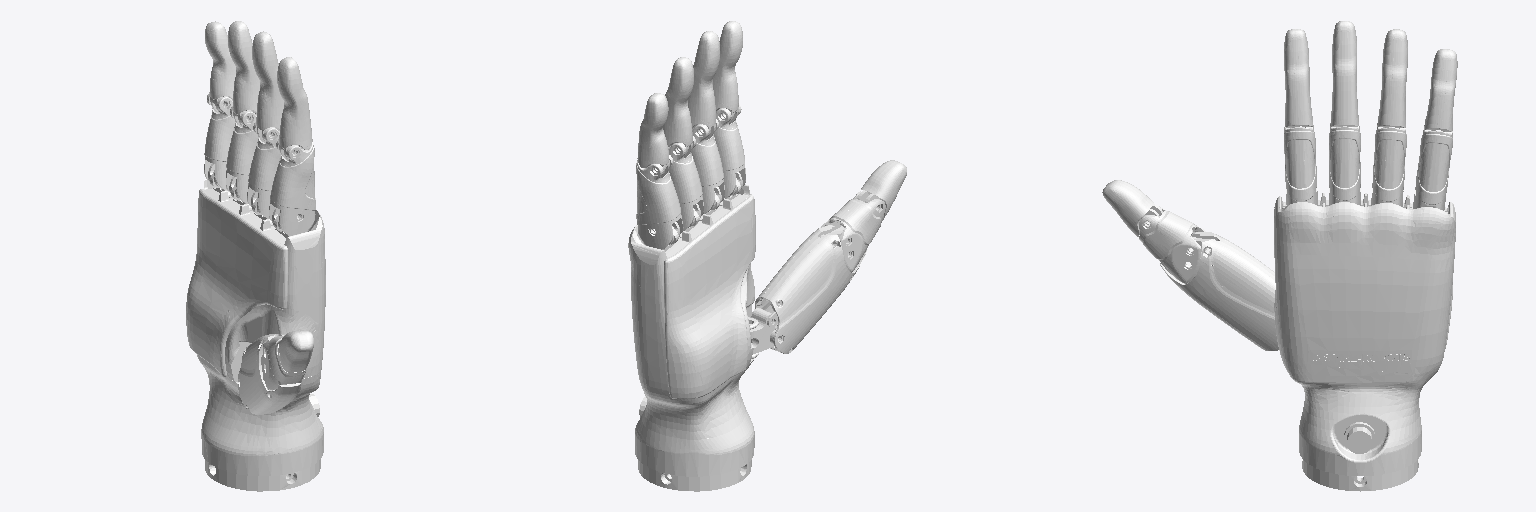
--- What the picture shows (computed from the rendered views, not written in the file) ---
Views: 3 orthographic renders of the robot side by side, from view 1: azimuth 30°, elevation 25°; view 2: azimuth 150°, elevation 25°; view 3: azimuth 270°, elevation 25°.
Robot: handright9253 — 32 links, 31 joints (24 revolute, 6 prismatic, 1 fixed); root link world; default pose: all joints at 0.
Visible links, largest first — view 1: base_link, Link3, Link4, Link44, Link14, Link24, Link13, Link23, Link33, Link34, Link48, Link47; view 2: base_link, Link44, Link33, Link47, Link14, Link24, Link4, Link34, Link23, Link13, Link3, Link48 (+1 smaller); view 3: base_link, Link44, Link47, Link14, Link33, Link24, Link4, Link13, Link23, Link3, Link34, Link48.
Boxes of the visible links, box(x1,y1,x2,y2) form: base_link: box(186, 163, 325, 491); Link3: box(269, 139, 315, 235); Link4: box(277, 57, 312, 160); Link44: box(238, 334, 300, 414); Link14: box(252, 31, 283, 141); Link24: box(228, 21, 259, 126); Link13: box(247, 122, 280, 218); Link23: box(226, 106, 258, 203); Link33: box(204, 92, 235, 190); Link34: box(205, 21, 235, 112); Link48: box(279, 330, 313, 372); Link47: box(261, 335, 307, 389); base_link: box(628, 172, 758, 491); Link44: box(755, 225, 867, 353); Link33: box(636, 155, 683, 249); Link47: box(821, 191, 885, 272); Link14: box(688, 31, 719, 137); Link24: box(663, 57, 693, 156); Link4: box(713, 21, 742, 123); Link34: box(637, 93, 669, 176); Link23: box(668, 136, 703, 230); Link13: box(691, 119, 724, 213); Link3: box(714, 104, 745, 197); Link48: box(857, 160, 906, 217); base_link: box(1274, 193, 1455, 491); Link44: box(1160, 232, 1278, 350); Link47: box(1139, 206, 1205, 283); Link14: box(1331, 21, 1358, 126); Link33: box(1413, 119, 1452, 210); Link24: box(1378, 29, 1407, 127); Link4: box(1284, 29, 1312, 127); Link13: box(1329, 123, 1360, 205); Link23: box(1371, 123, 1406, 206); Link3: box(1284, 125, 1317, 205); Link34: box(1425, 49, 1457, 131); Link48: box(1102, 180, 1162, 236).
Size in the robot's own frame: 0.0757 by 0.1584 by 0.2178 metres.
Meshes: 31 distinct files referenced, 31 mesh visuals loaded (31 binary STL).

The robot description file, URDF, robot "handright9253":
<?xml version="1.0" encoding="utf-8"?>
<!-- This URDF was automatically created by SolidWorks to URDF Exporter! Originally created by Stephen Brawner ([email redacted]) 
     Commit Version: 1.6.0-4-g7f85cfe  Build Version: 1.6.7995.38578
     For more information, please see http://wiki.ros.org/sw_urdf_exporter -->
<robot
  name="handright9253">
  <mujoco>
    <compiler meshdir="../meshes" balanceinertia="true" discardvisual="false"/>
    <actuator>

      <motor name="index"    joint="joint12"  />
      <motor name="middle"   joint="Link12"/>
      <motor name="ring"     joint="Link22"/>
      <motor name="pinky"    joint="Link32"/>
      <motor name="t_rotate" joint="Link42"/>
      <motor name="thumb"    joint="Link46"/>

    </actuator>     
  </mujoco>

    
  <link name="world"/>
  <joint name="fixed" type="fixed">
  <origin
   xyz="0.5 0.5 0.5"
   rpy="-1.5707963 0 0" />
  <parent link="world"/>
  <child link="base_link"/>
  </joint>
  
  
  <link
    name="base_link">
    <inertial>
      <origin
        xyz="-0.0025264 -0.066047 0.0019598"
        rpy="0 0 0" />
      <mass
        value="0.14143" />
      <inertia
        ixx="0.00012281"
        ixy="2.1711E-06"
        ixz="1.7709E-06"
        iyy="8.3831E-05"
        iyz="-1.655E-06"
        izz="7.6663E-05" />
    </inertial>
    <visual>
      <origin
        xyz="0 0 0"
        rpy="0 0 0" />
      <geometry>
        <mesh
          filename="meshes/base_link.STL" />
      </geometry>
      <material
        name="">
        <color
          rgba="1 1 1 1" />
      </material>
    </visual>
    <collision>
      <origin
        xyz="0 0 0"
        rpy="0 0 0" />
      <geometry>
        <mesh
          filename="meshes/base_link.STL" />
      </geometry>
    </collision>
  </link>
  <link
    name="Link1">
    <inertial>
      <origin
        xyz="-0.0017642 -0.028543 -2.2385E-07"
        rpy="0 0 0" />
      <mass
        value="0.0069755" />
      <inertia
        ixx="1.9938E-06"
        ixy="-5.5056E-08"
        ixz="3.3957E-12"
        iyy="1.4791E-07"
        iyz="-3.5244E-11"
        izz="2.0272E-06" />
    </inertial>
    <visual>
      <origin
        xyz="0 0 0"
        rpy="0 0 0" />
      <geometry>
        <mesh
          filename="meshes/Link1.STL" />
      </geometry>
      <material
        name="">
        <color
          rgba="1 1 1 1" />
      </material>
    </visual>
    <collision>
      <origin
        xyz="0 0 0"
        rpy="0 0 0" />
      <geometry>
        <mesh
          filename="meshes/Link1.STL" />
      </geometry>
    </collision>
  </link>
  <joint
    name="joint01"
    type="revolute">
    <origin
      xyz="0.00629 -0.056236 -0.02346"
      rpy="0.034907 0 0" />
    <parent
      link="base_link" />
    <child
      link="Link1" />
    <axis
      xyz="0 0 -1" />
    <limit
      lower="-0.05"
      upper="0.05"
      effort="50"
      velocity="1" />
  </joint>
  <link
    name="Link2">
    <inertial>
      <origin
        xyz="-1.6261E-10 2.3732E-10 -0.011292"
        rpy="0 0 0" />
      <mass
        value="0.00030666" />
      <inertia
        ixx="1.4458E-08"
        ixy="1.5131E-11"
        ixz="-4.0058E-16"
        iyy="1.4474E-08"
        iyz="6.7963E-16"
        izz="6.5358E-10" />
    </inertial>
    <visual>
      <origin
        xyz="0 0 0"
        rpy="0 0 0" />
      <geometry>
        <mesh
          filename="meshes/Link2.STL" />
      </geometry>
      <material
        name="">
        <color
          rgba="1 1 1 1" />
      </material>
    </visual>
    <collision>
      <origin
        xyz="0 0 0"
        rpy="0 0 0" />
      <geometry>
        <mesh
          filename="meshes/Link2.STL" />
      </geometry>
    </collision>
  </link>
  <joint
    name="joint12"
    type="prismatic">
    <origin
      xyz="-0.0010813 -0.050714 0"
      rpy="-1.5708 0.54805 -0.021318" />
    <parent
      link="Link1" />
    <child
      link="Link2" />
    <axis
      xyz="0 0 -1" />
    <limit
      lower="0"
      upper="0.01"
      effort="50"
      velocity="1" />
  </joint>
  <link
    name="Link3">
    <inertial>
      <origin
        xyz="0.0031774 0.017383 0.00090008"
        rpy="0 0 0" />
      <mass
        value="0.0042403" />
      <inertia
        ixx="6.6232E-07"
        ixy="1.5775E-08"
        ixz="1.8782E-12"
        iyy="2.1146E-07"
        iyz="5.067E-12"
        izz="6.9398E-07" />
    </inertial>
    <visual>
      <origin
        xyz="0 0 0"
        rpy="0 0 0" />
      <geometry>
        <mesh
          filename="meshes/Link3.STL" />
      </geometry>
      <material
        name="">
        <color
          rgba="1 1 1 1" />
      </material>
    </visual>
    <collision>
      <origin
        xyz="0 0 0"
        rpy="0 0 0" />
      <geometry>
        <mesh
          filename="meshes/Link3.STL" />
      </geometry>
    </collision>
  </link>
  <joint
    name="joint23"
    type="revolute">
    <origin
      xyz="0.00046892 0.00076819 -0.0244"
      rpy="-1.5708 0.021318 2.5935" />
    <parent
      link="Link2" />
    <child
      link="Link3" />
    <axis
      xyz="0 0 -1" />
    <limit
      lower="0"
      upper="1.7"
      effort="50"
      velocity="1" />
  </joint>
  <link
    name="Link4">
    <inertial>
      <origin
        xyz="-0.0019697 0.019589 0.00305"
        rpy="0 0 0" />
      <mass
        value="0.0045683" />
      <inertia
        ixx="7.6111E-07"
        ixy="-8.7637E-08"
        ixz="-4.2766E-13"
        iyy="9.6076E-08"
        iyz="-1.2085E-12"
        izz="7.8179E-07" />
    </inertial>
    <visual>
      <origin
        xyz="0 0 0"
        rpy="0 0 0" />
      <geometry>
        <mesh
          filename="meshes/Link4.STL" />
      </geometry>
      <material
        name="">
        <color
          rgba="1 1 1 1" />
      </material>
    </visual>
    <collision>
      <origin
        xyz="0 0 0"
        rpy="0 0 0" />
      <geometry>
        <mesh
          filename="meshes/Link4.STL" />
      </geometry>
    </collision>
  </link>
  <joint
    name="joint34"
    type="revolute">
    <origin
      xyz="0.0070171 0.037468 -0.00215"
      rpy="0 0 0" />
    <parent
      link="Link3" />
    <child
      link="Link4" />
    <axis
      xyz="0 0 1" />
    <limit
      lower="-1.7"
      upper="0"
      effort="50"
      velocity="1" />
  </joint>
  
  
  <gazebo>
  <joint
    name="joint03"
    type="revolute">
    <pose relative_to = "base_link">0.00028533 -0.1366 -0.030269 -0.034907 0 3.1416</pose>
    <parent>base_link</parent>
    <child>Link3</child>
    <axis>0 0 1</axis>
    <limit
      lower="-2"
      upper="0"
      effort="50"
      velocity="1" />
  </joint>
  </gazebo>
  
  
  <link
    name="Link5">
    <inertial>
      <origin
        xyz="-0.0038588 0.015743 0.004"
        rpy="0 0 0" />
      <mass
        value="0.00031561" />
      <inertia
        ixx="4.8752E-08"
        ixy="1.1798E-08"
        ixz="2.6832E-23"
        iyy="3.6866E-09"
        iyz="-1.1225E-22"
        izz="5.1996E-08" />
    </inertial>
    <visual>
      <origin
        xyz="0 0 0"
        rpy="0 0 0" />
      <geometry>
        <mesh
          filename="meshes/Link5.STL" />
      </geometry>
      <material
        name="">
        <color
          rgba="1 1 1 1" />
      </material>
    </visual>
    <collision>
      <origin
        xyz="0 0 0"
        rpy="0 0 0" />
      <geometry>
        <mesh
          filename="meshes/Link5.STL" />
      </geometry>
    </collision>
  </link>
  <joint
    name="joint05"
    type="revolute">
    <origin
      xyz="-0.00546 -0.13178 -0.030101"
      rpy="-0.034907 0 3.1416" />
    <parent
      link="base_link" />
    <child
      link="Link5" />
    <axis
      xyz="0 0 1" />
    <limit
      lower="-2"
      upper="0"
      effort="50"
      velocity="1" />
  </joint>
  
  
  <gazebo>
  <joint
    name="joint54"
    type="revolute">
    <pose relative_to = "Link5">-0.0078202 0.031648 0.00095 0 0 0</pose>
    <parent>Link5</parent>
    <child>Link4</child>
    <axis>0 0 1</axis>
    <limit
      lower="-2"
      upper="2"
      effort="50"
      velocity="1" />
  </joint>
  </gazebo>
  
  
  <link
    name="Link11">
    <inertial>
      <origin
        xyz="-0.0017767 -0.028542 -2.303E-07"
        rpy="0 0 0" />
      <mass
        value="0.0069755" />
      <inertia
        ixx="1.9937E-06"
        ixy="-5.5869E-08"
        ixz="3.0637E-12"
        iyy="1.4796E-07"
        iyz="-3.5748E-11"
        izz="2.0272E-06" />
    </inertial>
    <visual>
      <origin
        xyz="0 0 0"
        rpy="0 0 0" />
      <geometry>
        <mesh
          filename="meshes/Link11.STL" />
      </geometry>
      <material
        name="">
        <color
          rgba="1 1 1 1" />
      </material>
    </visual>
    <collision>
      <origin
        xyz="0 0 0"
        rpy="0 0 0" />
      <geometry>
        <mesh
          filename="meshes/Link11.STL" />
      </geometry>
    </collision>
  </link>
  <joint
    name="joint011"
    type="revolute">
    <origin
      xyz="0.00629 -0.05655 -0.00695"
      rpy="0 0 0" />
    <parent
      link="base_link" />
    <child
      link="Link11" />
    <axis
      xyz="0 0 -1" />
    <limit
      lower="-0.05"
      upper="0.05"
      effort="50"
      velocity="1" />
  </joint>
  <link
    name="Link12">
    <inertial>
      <origin
        xyz="-0.018674 6.5223E-06 -0.010992"
        rpy="0 0 0" />
      <mass
        value="0.00030666" />
      <inertia
        ixx="1.4466E-08"
        ixy="-1.8286E-14"
        ixz="-4.8224E-10"
        iyy="1.4449E-08"
        iyz="1.8406E-13"
        izz="6.7042E-10" />
    </inertial>
    <visual>
      <origin
        xyz="0 0 0"
        rpy="0 0 0" />
      <geometry>
        <mesh
          filename="meshes/Link12.STL" />
      </geometry>
      <material
        name="">
        <color
          rgba="1 1 1 1" />
      </material>
    </visual>
    <collision>
      <origin
        xyz="0 0 0"
        rpy="0 0 0" />
      <geometry>
        <mesh
          filename="meshes/Link12.STL" />
      </geometry>
    </collision>
  </link>
  <joint
    name="joint1112"
    type="prismatic">
    <origin
      xyz="-0.0011031 -0.050343 -0.018279"
      rpy="0.021758 1.5359 1.5708" />
    <parent
      link="Link11" />
    <child
      link="Link12" />
    <axis
      xyz="0 0 -1" />
    <limit
      lower="0"
      upper="0.01"
      effort="50"
      velocity="1" />
  </joint>
  <link
    name="Link13">
    <inertial>
      <origin
        xyz="0.0030737 0.017402 0.00090013"
        rpy="0 0 0" />
      <mass
        value="0.0042403" />
      <inertia
        ixx="6.6211E-07"
        ixy="1.8461E-08"
        ixz="1.798E-12"
        iyy="2.1167E-07"
        iyz="6.6568E-12"
        izz="6.9397E-07" />
    </inertial>
    <visual>
      <origin
        xyz="0 0 0"
        rpy="0 0 0" />
      <geometry>
        <mesh
          filename="meshes/Link13.STL" />
      </geometry>
      <material
        name="">
        <color
          rgba="1 1 1 1" />
      </material>
    </visual>
    <collision>
      <origin
        xyz="0 0 0"
        rpy="0 0 0" />
      <geometry>
        <mesh
          filename="meshes/Link13.STL" />
      </geometry>
    </collision>
  </link>
  <joint
    name="joint1213"
    type="revolute">
    <origin
      xyz="-0.018232 0 -0.024124"
      rpy="-1.5359 0.021758 1.5708" />
    <parent
      link="Link12" />
    <child
      link="Link13" />
    <axis
      xyz="0 0 -1" />
    <limit
      lower="0"
      upper="1.7"
      effort="50"
      velocity="1" />
  </joint>
  <link
    name="Link14">
    <inertial>
      <origin
        xyz="-0.001921 0.020796 0.00305"
        rpy="0 0 0" />
      <mass
        value="0.0050396" />
      <inertia
        ixx="9.5822E-07"
        ixy="-1.1425E-07"
        ixz="-2.4866E-12"
        iyy="1.0646E-07"
        iyz="-5.9101E-12"
        izz="9.8384E-07" />
    </inertial>
    <visual>
      <origin
        xyz="0 0 0"
        rpy="0 0 0" />
      <geometry>
        <mesh
          filename="meshes/Link14.STL" />
      </geometry>
      <material
        name="">
        <color
          rgba="1 1 1 1" />
      </material>
    </visual>
    <collision>
      <origin
        xyz="0 0 0"
        rpy="0 0 0" />
      <geometry>
        <mesh
          filename="meshes/Link14.STL" />
      </geometry>
    </collision>
  </link>
  <joint
    name="joint1314"
    type="revolute">
    <origin
      xyz="0.0067937 0.037509 -0.00215"
      rpy="0 0 0" />
    <parent
      link="Link13" />
    <child
      link="Link14" />
    <axis
      xyz="0 0 -1" />
    <limit
      lower="0"
      upper="1.7"
      effort="50"
      velocity="1" />
  </joint>
  
  
  <gazebo>
  <joint
    name="joint013"
    type="revolute">
    <pose relative_to = "base_link">0.00028533 -0.1371 -0.01095 0 0 3.1416</pose>
    <parent>base_link</parent>
    <child>Link13</child>
    <axis>0 0 1</axis>
    <limit
      lower="-2"
      upper="2"
      effort="50"
      velocity="1" />
  </joint>
  </gazebo>
  
  
  <link
    name="Link15">
    <inertial>
      <origin
        xyz="-0.0039265 0.015726 0.004"
        rpy="0 0 0" />
      <mass
        value="0.00031561" />
      <inertia
        ixx="4.8649E-08"
        ixy="1.1992E-08"
        ixz="-3.8313E-23"
        iyy="3.789E-09"
        iyz="1.508E-22"
        izz="5.1996E-08" />
    </inertial>
    <visual>
      <origin
        xyz="0 0 0"
        rpy="0 0 0" />
      <geometry>
        <mesh
          filename="meshes/Link15.STL" />
      </geometry>
      <material
        name="">
        <color
          rgba="1 1 1 1" />
      </material>
    </visual>
    <collision>
      <origin
        xyz="0 0 0"
        rpy="0 0 0" />
      <geometry>
        <mesh
          filename="meshes/Link15.STL" />
      </geometry>
    </collision>
  </link>
  <joint
    name="joint015"
    type="revolute">
    <origin
      xyz="-0.00546 -0.13228 -0.01095"
      rpy="0 0 3.1416" />
    <parent
      link="base_link" />
    <child
      link="Link15" />
    <axis
      xyz="0 0 1" />
    <limit
      lower="-2"
      upper="0"
      effort="50"
      velocity="1" />
  </joint>
  
  
  <gazebo>
  <joint
    name="joint1514"
    type="revolute">
    <pose relative_to = "Link15">-0.0079562 0.031614 0.00095 0 0 0</pose>
    <parent>Link15</parent>
    <child>Link14</child>
    <axis>0 0 -1</axis>
    <limit
      lower="-2"
      upper="2"
      effort="50"
      velocity="1" />
  </joint>
  </gazebo>
  
  
  <link
    name="Link21">
    <inertial>
      <origin
        xyz="-0.0017767 -0.028542 -2.2887E-07"
        rpy="0 0 0" />
      <mass
        value="0.0069755" />
      <inertia
        ixx="1.9937E-06"
        ixy="-5.5869E-08"
        ixz="3.0573E-12"
        iyy="1.4796E-07"
        iyz="-3.5751E-11"
        izz="2.0272E-06" />
    </inertial>
    <visual>
      <origin
        xyz="0 0 0"
        rpy="0 0 0" />
      <geometry>
        <mesh
          filename="meshes/Link21.STL" />
      </geometry>
      <material
        name="">
        <color
          rgba="1 1 1 1" />
      </material>
    </visual>
    <collision>
      <origin
        xyz="0 0 0"
        rpy="0 0 0" />
      <geometry>
        <mesh
          filename="meshes/Link21.STL" />
      </geometry>
    </collision>
  </link>
  <joint
    name="joint021"
    type="revolute">
    <origin
      xyz="0.00629 -0.056157 0.0080633"
      rpy="-0.05236 0 0" />
    <parent
      link="base_link" />
    <child
      link="Link21" />
    <axis
      xyz="0 0 1" />
    <limit
      lower="-0.05"
      upper="0.05"
      effort="50"
      velocity="1" />
  </joint>
  <link
    name="Link22">
    <inertial>
      <origin
        xyz="7.7552E-11 1.8671E-10 -0.011292"
        rpy="0 0 0" />
      <mass
        value="0.00030666" />
      <inertia
        ixx="1.4483E-08"
        ixy="-3.7658E-14"
        ixz="1.8278E-16"
        iyy="1.4449E-08"
        iyz="5.518E-16"
        izz="6.5358E-10" />
    </inertial>
    <visual>
      <origin
        xyz="0 0 0"
        rpy="0 0 0" />
      <geometry>
        <mesh
          filename="meshes/Link22.STL" />
      </geometry>
      <material
        name="">
        <color
          rgba="1 1 1 1" />
      </material>
    </visual>
    <collision>
      <origin
        xyz="0 0 0"
        rpy="0 0 0" />
      <geometry>
        <mesh
          filename="meshes/Link22.STL" />
      </geometry>
    </collision>
  </link>
  <joint
    name="joint2122"
    type="prismatic">
    <origin
      xyz="-0.0011031 -0.050688 0"
      rpy="1.5708 1.5697 3.1198" />
    <parent
      link="Link21" />
    <child
      link="Link22" />
    <axis
      xyz="0 0 -1" />
    <limit
      lower="0"
      upper="0.01"
      effort="50"
      velocity="1" />
  </joint>
  <link
    name="Link23">
    <inertial>
      <origin
        xyz="0.0030737 0.017402 0.00090015"
        rpy="0 0 0" />
      <mass
        value="0.0042403" />
      <inertia
        ixx="6.6211E-07"
        ixy="1.8461E-08"
        ixz="1.5739E-12"
        iyy="2.1167E-07"
        iyz="6.6326E-12"
        izz="6.9397E-07" />
    </inertial>
    <visual>
      <origin
        xyz="0 0 0"
        rpy="0 0 0" />
      <geometry>
        <mesh
          filename="meshes/Link23.STL" />
      </geometry>
      <material
        name="">
        <color
          rgba="1 1 1 1" />
      </material>
    </visual>
    <collision>
      <origin
        xyz="0 0 0"
        rpy="0 0 0" />
      <geometry>
        <mesh
          filename="meshes/Link23.STL" />
      </geometry>
    </collision>
  </link>
  <joint
    name="joint2223"
    type="revolute">
    <origin
      xyz="0.0009 0 -0.0244"
      rpy="-1.5708 0.021758 1.5697" />
    <parent
      link="Link22" />
    <child
      link="Link23" />
    <axis
      xyz="0 0 -1" />
    <limit
      lower="0"
      upper="1.7"
      effort="50"
      velocity="1" />
  </joint>
  <link
    name="Link24">
    <inertial>
      <origin
        xyz="-0.0021753 0.019567 0.00305"
        rpy="0 0 0" />
      <mass
        value="0.0045683" />
      <inertia
        ixx="7.6286E-07"
        ixy="-8.0635E-08"
        ixz="-6.1735E-13"
        iyy="9.431E-08"
        iyz="-5.5495E-13"
        izz="7.8177E-07" />
    </inertial>
    <visual>
      <origin
        xyz="0 0 0"
        rpy="0 0 0" />
      <geometry>
        <mesh
          filename="meshes/Link24.STL" />
      </geometry>
      <material
        name="">
        <color
          rgba="1 1 1 1" />
      </material>
    </visual>
    <collision>
      <origin
        xyz="0 0 0"
        rpy="0 0 0" />
      <geometry>
        <mesh
          filename="meshes/Link24.STL" />
      </geometry>
    </collision>
  </link>
  <joint
    name="joint2324"
    type="revolute">
    <origin
      xyz="0.0067937 0.037509 -0.00215"
      rpy="0 0 0" />
    <parent
      link="Link23" />
    <child
      link="Link24" />
    <axis
      xyz="0 0 1" />
    <limit
      lower="-1.7"
      upper="0"
      effort="50"
      velocity="1" />
  </joint>
  
  
  <gazebo>
  <joint
    name="joint023"
    type="revolute">
    <pose relative_to = "base_link">0.00028533 -0.13681 0.0082844 0.05236 0 -3.1416</pose>
    <parent>base_link</parent>
    <child>Link23</child>
    <axis>0 0 1</axis>
    <limit
      lower="-2"
      upper="0"
      effort="50"
      velocity="1" />
  </joint>
  </gazebo>
  
  
  <link
    name="Link25">
    <inertial>
      <origin
        xyz="-0.0039265 0.015726 0.004"
        rpy="0 0 0" />
      <mass
        value="0.00031561" />
      <inertia
        ixx="4.8649E-08"
        ixy="1.1992E-08"
        ixz="-1.2563E-23"
        iyy="3.789E-09"
        iyz="5.4142E-23"
        izz="5.1996E-08" />
    </inertial>
    <visual>
      <origin
        xyz="0 0 0"
        rpy="0 0 0" />
      <geometry>
        <mesh
          filename="meshes/Link25.STL" />
      </geometry>
      <material
        name="">
        <color
          rgba="1 1 1 1" />
      </material>
    </visual>
    <collision>
      <origin
        xyz="0 0 0"
        rpy="0 0 0" />
      <geometry>
        <mesh
          filename="meshes/Link25.STL" />
      </geometry>
    </collision>
  </link>
  <joint
    name="joint025"
    type="revolute">
    <origin
      xyz="-0.00546 -0.13199 0.0080321"
      rpy="0.05236 0 -3.1416" />
    <parent
      link="base_link" />
    <child
      link="Link25" />
    <axis
      xyz="0 0 1" />
    <limit
      lower="-2"
      upper="0"
      effort="50"
      velocity="1" />
  </joint>
  
  
  <gazebo>
  <joint
    name="joint2524"
    type="revolute">
    <pose relative_to = "Link25">-0.0079562 0.031614 0.00095 0 0 0</pose>
    <parent>Link25</parent>
    <child>Link24</child>
    <axis>0 0 1</axis>
    <limit
      lower="-2"
      upper="2"
      effort="50"
      velocity="1" />
  </joint>
  </gazebo>
  
  
  <link
    name="Link31">
    <inertial>
      <origin
        xyz="-0.0017767 -0.028542 -2.2872E-07"
        rpy="0 0 0" />
      <mass
        value="0.0069755" />
      <inertia
        ixx="1.9937E-06"
        ixy="-5.5869E-08"
        ixz="3.0495E-12"
        iyy="1.4796E-07"
        iyz="-3.5733E-11"
        izz="2.0272E-06" />
    </inertial>
    <visual>
      <origin
        xyz="0 0 0"
        rpy="0 0 0" />
      <geometry>
        <mesh
          filename="meshes/Link31.STL" />
      </geometry>
      <material
        name="">
        <color
          rgba="1 1 1 1" />
      </material>
    </visual>
    <collision>
      <origin
        xyz="0 0 0"
        rpy="0 0 0" />
      <geometry>
        <mesh
          filename="meshes/Link31.STL" />
      </geometry>
    </collision>
  </link>
  <joint
    name="joint031"
    type="revolute">
    <origin
      xyz="0.00629 -0.054979 0.023035"
      rpy="-0.10472 0 0" />
    <parent
      link="base_link" />
    <child
      link="Link31" />
    <axis
      xyz="0 0 1" />
    <limit
      lower="-0.05"
      upper="0.05"
      effort="50"
      velocity="1" />
  </joint>
  <link
    name="Link32">
    <inertial>
      <origin
        xyz="2.6333E-10 5.3616E-10 -0.011292"
        rpy="0 0 0" />
      <mass
        value="0.00030666" />
      <inertia
        ixx="1.4483E-08"
        ixy="-7.6671E-14"
        ixz="1.0318E-15"
        iyy="1.4449E-08"
        iyz="1.234E-15"
        izz="6.5358E-10" />
    </inertial>
    <visual>
      <origin
        xyz="0 0 0"
        rpy="0 0 0" />
      <geometry>
        <mesh
          filename="meshes/Link32.STL" />
      </geometry>
      <material
        name="">
        <color
          rgba="1 1 1 1" />
      </material>
    </visual>
    <collision>
      <origin
        xyz="0 0 0"
        rpy="0 0 0" />
      <geometry>
        <mesh
          filename="meshes/Link32.STL" />
      </geometry>
    </collision>
  </link>
  <joint
    name="joint3132"
    type="prismatic">
    <origin
      xyz="-0.0011031 -0.050688 0"
      rpy="1.5708 1.5685 3.1198" />
    <parent
      link="Link31" />
    <child
      link="Link32" />
    <axis
      xyz="0 0 -1" />
    <limit
      lower="0"
      upper="0.01"
      effort="50"
      velocity="1" />
  </joint>
  <link
    name="Link33">
    <inertial>
      <origin
        xyz="0.0030737 0.017402 0.00090014"
        rpy="0 0 0" />
      <mass
        value="0.0042403" />
      <inertia
        ixx="6.6211E-07"
        ixy="1.8461E-08"
        ixz="1.6126E-12"
        iyy="2.1167E-07"
        iyz="6.6785E-12"
        izz="6.9398E-07" />
    </inertial>
    <visual>
      <origin
        xyz="0 0 0"
        rpy="0 0 0" />
      <geometry>
        <mesh
          filename="meshes/Link33.STL" />
      </geometry>
      <material
        name="">
        <color
          rgba="1 1 1 1" />
      </material>
    </visual>
    <collision>
      <origin
        xyz="0 0 0"
        rpy="0 0 0" />
      <geometry>
        <mesh
          filename="meshes/Link33.STL" />
      </geometry>
    </collision>
  </link>
  <joint
    name="joint3233"
    type="revolute">
    <origin
      xyz="0.0009 0 -0.0244"
      rpy="-1.5708 0.021758 1.5685" />
    <parent
      link="Link32" />
    <child
      link="Link33" />
    <axis
      xyz="0 0 1" />
    <limit
      lower="-1.7"
      upper="0"
      effort="50"
      velocity="1" />
  </joint>
  <link
    name="Link34">
    <inertial>
      <origin
        xyz="-0.0024748 0.016203 0.0030531"
        rpy="0 0 0" />
      <mass
        value="0.0035996" />
      <inertia
        ixx="4.3913E-07"
        ixy="-4.1418E-08"
        ixz="3.7169E-11"
        iyy="7.0247E-08"
        iyz="-5.8612E-11"
        izz="4.4867E-07" />
    </inertial>
    <visual>
      <origin
        xyz="0 0 0"
        rpy="0 0 0" />
      <geometry>
        <mesh
          filename="meshes/Link34.STL" />
      </geometry>
      <material
        name="">
        <color
          rgba="1 1 1 1" />
      </material>
    </visual>
    <collision>
      <origin
        xyz="0 0 0"
        rpy="0 0 0" />
      <geometry>
        <mesh
          filename="meshes/Link34.STL" />
      </geometry>
    </collision>
  </link>
  <joint
    name="joint3334"
    type="revolute">
    <origin
      xyz="0.0067937 0.037509 -0.00215"
      rpy="0 0 0" />
    <parent
      link="Link33" />
    <child
      link="Link34" />
    <axis
      xyz="0 0 -1" />
    <limit
      lower="0"
      upper="1.7"
      effort="50"
      velocity="1" />
  </joint>
 
  
  <gazebo>
  <joint
    name="joint033"
    type="revolute">
    <pose relative_to = "base_link">0.00028533 -0.13551 0.027477 0.10472 0 -3.1416</pose>
    <parent>base_link</parent>
    <child>Link33</child>
    <axis>0 0 1</axis>
    <limit
      lower="-2"
      upper="0"
      effort="50"
      velocity="1" />
  </joint>
  </gazebo>
  
  
  <link
    name="Link35">
    <inertial>
      <origin
        xyz="-0.0039265 0.015726 0.004"
        rpy="0 0 0" />
      <mass
        value="0.00031561" />
      <inertia
        ixx="4.8649E-08"
        ixy="1.1992E-08"
        ixz="-6.4106E-24"
        iyy="3.789E-09"
        iyz="2.815E-23"
        izz="5.1996E-08" />
    </inertial>
    <visual>
      <origin
        xyz="0 0 0"
        rpy="0 0 0" />
      <geometry>
        <mesh
          filename="meshes/Link35.STL" />
      </geometry>
      <material
        name="">
        <color
          rgba="1 1 1 1" />
      </material>
    </visual>
    <collision>
      <origin
        xyz="0 0 0"
        rpy="0 0 0" />
      <geometry>
        <mesh
          filename="meshes/Link35.STL" />
      </geometry>
    </collision>
  </link>
  <joint
    name="joint035"
    type="revolute">
    <origin
      xyz="-0.00546 -0.13071 0.026973"
      rpy="0.10472 0 -3.1416" />
    <parent
      link="base_link" />
    <child
      link="Link35" />
    <axis
      xyz="0 0 1" />
    <limit
      lower="-2"
      upper="0"
      effort="50"
      velocity="1" />
  </joint>
  
  
  <gazebo>
  <joint
    name="joint3534"
    type="revolute">
    <pose relative_to = "Link35">-0.0079562 0.031614 0.00095 0 0 0</pose>
    <parent>Link35</parent>
    <child>Link34</child>
    <axis>0 0 -1</axis>
    <limit
      lower="-2"
      upper="2"
      effort="50"
      velocity="1" />
  </joint>
  </gazebo>
  
  
  <link
    name="Link41">
    <inertial>
      <origin
        xyz="3.252E-10 0.022007 0.0065979"
        rpy="0 0 0" />
      <mass
        value="0.0092961" />
      <inertia
        ixx="1.5208E-06"
        ixy="-4.4798E-14"
        ixz="1.7935E-14"
        iyy="5.558E-07"
        iyz="-8.9664E-08"
        izz="1.1427E-06" />
    </inertial>
    <visual>
      <origin
        xyz="0 0 0"
        rpy="0 0 0" />
      <geometry>
        <mesh
          filename="meshes/Link41.STL" />
      </geometry>
      <material
        name="">
        <color
          rgba="1 1 1 1" />
      </material>
    </visual>
    <collision>
      <origin
        xyz="0 0 0"
        rpy="0 0 0" />
      <geometry>
        <mesh
          filename="meshes/Link41.STL" />
      </geometry>
    </collision>
  </link>
  <joint
    name="joint041"
    type="revolute">
    <origin
      xyz="-0.01096 -0.06025 0.02985"
      rpy="-1.5708 -0.0089504 -3.1416" />
    <parent
      link="base_link" />
    <child
      link="Link41" />
    <axis
      xyz="0 0 -1" />
    <limit
      lower="-0.02"
      upper="0.02"
      effort="50"
      velocity="1" />
  </joint>
  <link
    name="Link42">
    <inertial>
      <origin
        xyz="5.0532E-09 -1.4449E-09 -0.011425"
        rpy="0 0 0" />
      <mass
        value="0.00016153" />
      <inertia
        ixx="7.1494E-09"
        ixy="4.622E-16"
        ixz="6.0062E-15"
        iyy="7.177E-09"
        iyz="-1.7585E-15"
        izz="2.337E-10" />
    </inertial>
    <visual>
      <origin
        xyz="0 0 0"
        rpy="0 0 0" />
      <geometry>
        <mesh
          filename="meshes/Link42.STL" />
      </geometry>
      <material
        name="">
        <color
          rgba="1 1 1 1" />
      </material>
    </visual>
    <collision>
      <origin
        xyz="0 0 0"
        rpy="0 0 0" />
      <geometry>
        <mesh
          filename="meshes/Link42.STL" />
      </geometry>
    </collision>
  </link>
  <joint
    name="joint4142"
    type="prismatic">
    <origin
      xyz="0 0.027687 0"
      rpy="1.5708 0 0" />
    <parent
      link="Link41" />
    <child
      link="Link42" />
    <axis
      xyz="0 0 -1" />
    <limit
      lower="0"
      upper="0.01"
      effort="50"
      velocity="1" />
  </joint>
  <link
    name="Link43">
    <inertial>
      <origin
        xyz="-0.0078715 0.0065154 0.00388"
        rpy="0 0 0" />
      <mass
        value="0.0018869" />
      <inertia
        ixx="5.816E-08"
        ixy="1.4539E-08"
        ixz="4.491E-09"
        iyy="7.9161E-08"
        iyz="-1.8727E-09"
        izz="6.7433E-08" />
    </inertial>
    <visual>
      <origin
        xyz="0 0 0"
        rpy="0 0 0" />
      <geometry>
        <mesh
          filename="meshes/Link43.STL" />
      </geometry>
      <material
        name="">
        <color
          rgba="1 1 1 1" />
      </material>
    </visual>
    <collision>
      <origin
        xyz="0 0 0"
        rpy="0 0 0" />
      <geometry>
        <mesh
          filename="meshes/Link43.STL" />
      </geometry>
    </collision>
  </link>
  <joint
    name="joint4243"
    type="revolute">
    <origin
      xyz="0 -0.0026 -0.01955"
      rpy="-1.5708 -1.5618 0" />
    <parent
      link="Link42" />
    <child
      link="Link43" />
    <axis
      xyz="0 0 -1" />
    <limit
      lower="0"
      upper="1.2"
      effort="50"
      velocity="1" />
  </joint>
  <link
    name="Link44">
    <inertial>
      <origin
        xyz="0.021932 0.012785 -0.0047886"
        rpy="0 0 0" />
      <mass
        value="0.0066075" />
      <inertia
        ixx="1.5687E-06"
        ixy="-7.8296E-07"
        ixz="8.9144E-10"
        iyy="1.7353E-06"
        iyz="-1.0191E-09"
        izz="2.786E-06" />
    </inertial>
    <visual>
      <origin
        xyz="0 0 0"
        rpy="0 0 0" />
      <geometry>
        <mesh
          filename="meshes/Link44.STL" />
      </geometry>
      <material
        name="">
        <color
          rgba="1 1 1 1" />
      </material>
    </visual>
    <collision>
      <origin
        xyz="0 0 0"
        rpy="0 0 0" />
      <geometry>
        <mesh
          filename="meshes/Link44.STL" />
      </geometry>
    </collision>
  </link>
  <joint
    name="joint4344"
    type="revolute">
    <origin
      xyz="-0.012782 0.013348 0.0022"
      rpy="1.5708 0 2.8587" />
    <parent
      link="Link43" />
    <child
      link="Link44" />
    <axis
      xyz="0 0 -1" />
    <limit
      lower="-0.5"
      upper="0"
      effort="50"
      velocity="1" />
  </joint>
  <link
    name="Link45">
    <inertial>
      <origin
        xyz="0.02194 -0.0065438 0.0010242"
        rpy="0 0 0" />
      <mass
        value="0.0092256" />
      <inertia
        ixx="5.5097E-07"
        ixy="8.8638E-08"
        ixz="-1.3873E-08"
        iyy="1.1405E-06"
        iyz="5.7237E-08"
        izz="1.4973E-06" />
    </inertial>
    <visual>
      <origin
        xyz="0 0 0"
        rpy="0 0 0" />
      <geometry>
        <mesh
          filename="meshes/Link45.STL" />
      </geometry>
      <material
        name="">
        <color
          rgba="1 1 1 1" />
      </material>
    </visual>
    <collision>
      <origin
        xyz="0 0 0"
        rpy="0 0 0" />
      <geometry>
        <mesh
          filename="meshes/Link45.STL" />
      </geometry>
    </collision>
  </link>
  <joint
    name="joint4445"
    type="revolute">
    <origin
      xyz="0.0083049 -0.0034513 -0.00475"
      rpy="-2.9863 0 0.5686" />
    <parent
      link="Link44" />
    <child
      link="Link45" />
    <axis
      xyz="0 -0.15464 -0.98797" />
    <limit
      lower="0"
      upper="0.4"
      effort="50"
      velocity="1" />
  </joint>
  <link
    name="Link46">
    <inertial>
      <origin
        xyz="-5.7515E-13 -6.7503E-13 -0.01215"
        rpy="0 0 0" />
      <mass
        value="0.00017549" />
      <inertia
        ixx="8.3803E-09"
        ixy="-5.9201E-16"
        ixz="-6.9351E-19"
        iyy="8.3341E-09"
        iyz="4.8265E-19"
        izz="2.4208E-10" />
    </inertial>
    <visual>
      <origin
        xyz="0 0 0"
        rpy="0 0 0" />
      <geometry>
        <mesh
          filename="meshes/Link46.STL" />
      </geometry>
      <material
        name="">
        <color
          rgba="1 1 1 1" />
      </material>
    </visual>
    <collision>
      <origin
        xyz="0 0 0"
        rpy="0 0 0" />
      <geometry>
        <mesh
          filename="meshes/Link46.STL" />
      </geometry>
    </collision>
  </link>
  <joint
    name="joint4546"
    type="prismatic">
    <origin
      xyz="0.02428 0 0"
      rpy="1.5708 1.4155 -1.5708" />
    <parent
      link="Link45" />
    <child
      link="Link46" />
    <axis
      xyz="0 0 -1" />
    <limit
      lower="0"
      upper="0.01"
      effort="50"
      velocity="1" />
  </joint>
  <link
    name="Link47">
    <inertial>
      <origin
        xyz="-0.0060688 0.011295 0.00099972"
        rpy="0 0 0" />
      <mass
        value="0.0037847" />
      <inertia
        ixx="3.6981E-07"
        ixy="9.8581E-08"
        ixz="-4.7472E-12"
        iyy="3.2394E-07"
        iyz="-1.0931E-12"
        izz="4.6531E-07" />
    </inertial>
    <visual>
      <origin
        xyz="0 0 0"
        rpy="0 0 0" />
      <geometry>
        <mesh
          filename="meshes/Link47.STL" />
      </geometry>
      <material
        name="">
        <color
          rgba="1 1 1 1" />
      </material>
    </visual>
    <collision>
      <origin
        xyz="0 0 0"
        rpy="0 0 0" />
      <geometry>
        <mesh
          filename="meshes/Link47.STL" />
      </geometry>
    </collision>
  </link>
  <joint
    name="joint4647"
    type="revolute">
    <origin
      xyz="0.001 0 -0.0223"
      rpy="-1.5708 -1.0022 1.5708" />
    <parent
      link="Link46" />
    <child
      link="Link47" />
    <axis
      xyz="0 0 -1" />
    <limit
      lower="0"
      upper="0.8"
      effort="50"
      velocity="1" />
  </joint>
  <link
    name="Link48">
    <inertial>
      <origin
        xyz="-0.0092888 0.0049529 0.0035533"
        rpy="0 0 0" />
      <mass
        value="0.0033441" />
      <inertia
        ixx="1.3632E-07"
        ixy="5.6788E-08"
        ixz="-9.2801E-11"
        iyy="1.4052E-07"
        iyz="1.2283E-10"
        izz="2.0026E-07" />
    </inertial>
    <visual>
      <origin
        xyz="0 0 0"
        rpy="0 0 0" />
      <geometry>
        <mesh
          filename="meshes/Link48.STL" />
      </geometry>
      <material
        name="">
        <color
          rgba="1 1 1 1" />
      </material>
    </visual>
    <collision>
      <origin
        xyz="0 0 0"
        rpy="0 0 0" />
      <geometry>
        <mesh
          filename="meshes/Link48.STL" />
      </geometry>
    </collision>
  </link>
  <joint
    name="joint4748"
    type="revolute">
    <origin
      xyz="-0.016763 0.023079 -0.00255"
      rpy="0 0 0" />
    <parent
      link="Link47" />
    <child
      link="Link48" />
    <axis
      xyz="0 0 -1" />
    <limit
      lower="0"
      upper="1.2"
      effort="50"
      velocity="1" />
  </joint>
  <link
    name="Link49">
    <inertial>
      <origin
        xyz="-0.017737 0.0022319 0.00145"
        rpy="0 0 0" />
      <mass
        value="0.00021109" />
      <inertia
        ixx="7.9738E-10"
        ixy="2.8747E-09"
        ixz="5.6093E-24"
        iyy="2.5464E-08"
        iyz="-1.3698E-24"
        izz="2.5965E-08" />
    </inertial>
    <visual>
      <origin
        xyz="0 0 0"
        rpy="0 0 0" />
      <geometry>
        <mesh
          filename="meshes/Link49.STL" />
      </geometry>
      <material
        name="">
        <color
          rgba="1 1 1 1" />
      </material>
    </visual>
    <collision>
      <origin
        xyz="0 0 0"
        rpy="0 0 0" />
      <geometry>
        <mesh
          filename="meshes/Link49.STL" />
      </geometry>
    </collision>
  </link>
  <joint
    name="joint4449"
    type="revolute">
    <origin
      xyz="0.036109 0.035336 -0.0033"
      rpy="3.1416 0 -3.1416" />
    <parent
      link="Link44" />
    <child
      link="Link49" />
    <axis
      xyz="0 0 -1" />
    <limit
      lower="0"
      upper="1"
      effort="50"
      velocity="1" />
  </joint>
  
  
  <gazebo>
  <joint
    name="joint4948"
    type="revolute">
    <pose relative_to = "Link49">-0.029097 0.003439 -0.0021 0 0 0</pose>
    <parent>Link49</parent>
    <child>Link48</child>
    <axis>0 0 -1</axis>
    <limit
      lower="-2"
      upper="2"
      effort="50"
      velocity="1" />
  </joint>
  </gazebo>
  
  
  <gazebo>
  <joint
    name="joint4447"
    type="revolute">
    <pose relative_to = "Link44">0.04407 0.034553 0.00245 -3.1416 0 -3.1416</pose>
    <parent>Link44</parent>
    <child>Link47</child>
    <axis>0 0 -1</axis>
    <limit
      lower="-2"
      upper="2"
      effort="50"
      velocity="1" />
  </joint>
  </gazebo>
  
  
  <link
    name="Link50">
    <inertial>
      <origin
        xyz="0.023451 0.0093386 -0.0005"
        rpy="0 0 0" />
      <mass
        value="0.00031643" />
      <inertia
        ixx="1.1104E-08"
        ixy="-2.5564E-08"
        ixz="-2.7256E-22"
        iyy="6.5483E-08"
        iyz="-1.1853E-22"
        izz="7.6534E-08" />
    </inertial>
    <visual>
      <origin
        xyz="0 0 0"
        rpy="0 0 0" />
      <geometry>
        <mesh
          filename="meshes/Link50.STL" />
      </geometry>
      <material
        name="">
        <color
          rgba="1 1 1 1" />
      </material>
    </visual>
    <collision>
      <origin
        xyz="0 0 0"
        rpy="0 0 0" />
      <geometry>
        <mesh
          filename="meshes/Link50.STL" />
      </geometry>
    </collision>
  </link>
  <joint
    name="joint4350"
    type="revolute">
    <origin
      xyz="-0.010085 0.014283 0.010893"
      rpy="1.5708 0 2.8587" />
    <parent
      link="Link43" />
    <child
      link="Link50" />
    <axis
      xyz="0 0 -1" />
    <limit
      lower="-1"
      upper="0"
      effort="50"
      velocity="1" />
  </joint>
  
  
  <gazebo>
  <joint
    name="joint5047"
    type="revolute">
    <pose relative_to = "Link50">0.047358 0.018925 0.0008 -3.1416 0 -3.1416</pose>
    <parent>Link50</parent>
    <child>Link47</child>
    <axis>0 0 -1</axis>
    <limit
      lower="-2"
      upper="2"
      effort="50"
      velocity="1" />
  </joint>
  </gazebo>
  
  
  <gazebo>
  <joint
    name="joint043"
    type="revolute">
    <pose relative_to = "base_link">-0.01696 -0.05485 -0.02045 1.5708 -1.5708 0</pose>
    <parent>base_link</parent>
    <child>Link43</child>
    <axis>0 0 -1</axis>
    <limit
      lower="-2"
      upper="2"
      effort="50"
      velocity="1" />
  </joint>
  </gazebo>
  
  
  <gazebo>
   <plugin name="gazebo_ros_control" filename="libgazebo_ros_control.so">
    <robotNamespace>/swivel</robotNamespace>
    <controlPeriod>0.001</controlPeriod>
    <robotSimType>gazebo_ros_control/DefaultRobotHWSim</robotSimType>
   </plugin>
  </gazebo>

  <transmission name="tran1">
   <type>transmission_interface/SimpleTransmission</type>
   <joint name="joint12">
    <hardwareInterface>hardware_interface/EffortJointInterface</hardwareInterface>
   </joint>
   <actuator name="motor1">
    <hardwareInterface>hardware_interface/EffortJointInterface</hardwareInterface>
    <mechanicalReduction>1</mechanicalReduction>
   </actuator>
  </transmission>
  
  <transmission name="tran2">
   <type>transmission_interface/SimpleTransmission</type>
   <joint name="joint1112">
    <hardwareInterface>hardware_interface/EffortJointInterface</hardwareInterface>
   </joint>
   <actuator name="motor2">
    <hardwareInterface>hardware_interface/EffortJointInterface</hardwareInterface>
    <mechanicalReduction>1</mechanicalReduction>
   </actuator>
  </transmission>
  
  <transmission name="tran3">
   <type>transmission_interface/SimpleTransmission</type>
   <joint name="joint2122">
    <hardwareInterface>hardware_interface/EffortJointInterface</hardwareInterface>
   </joint>
   <actuator name="motor3">
    <hardwareInterface>hardware_interface/EffortJointInterface</hardwareInterface>
    <mechanicalReduction>1</mechanicalReduction>
   </actuator>
  </transmission>
  
  <transmission name="tran4">
   <type>transmission_interface/SimpleTransmission</type>
   <joint name="joint3132">
    <hardwareInterface>hardware_interface/EffortJointInterface</hardwareInterface>
   </joint>
   <actuator name="motor4">
    <hardwareInterface>hardware_interface/EffortJointInterface</hardwareInterface>
    <mechanicalReduction>1</mechanicalReduction>
   </actuator>
  </transmission>
  
  <transmission name="tran5">
   <type>transmission_interface/SimpleTransmission</type>
   <joint name="joint4142">
    <hardwareInterface>hardware_interface/EffortJointInterface</hardwareInterface>
   </joint>
   <actuator name="motor5">
    <hardwareInterface>hardware_interface/EffortJointInterface</hardwareInterface>
    <mechanicalReduction>1</mechanicalReduction>
   </actuator>
  </transmission>
  
  <transmission name="tran6">
   <type>transmission_interface/SimpleTransmission</type>
   <joint name="joint4546">
    <hardwareInterface>hardware_interface/EffortJointInterface</hardwareInterface>
   </joint>
   <actuator name="motor6">
    <hardwareInterface>hardware_interface/EffortJointInterface</hardwareInterface>
    <mechanicalReduction>1</mechanicalReduction>
   </actuator>
  </transmission>
  
</robot>
